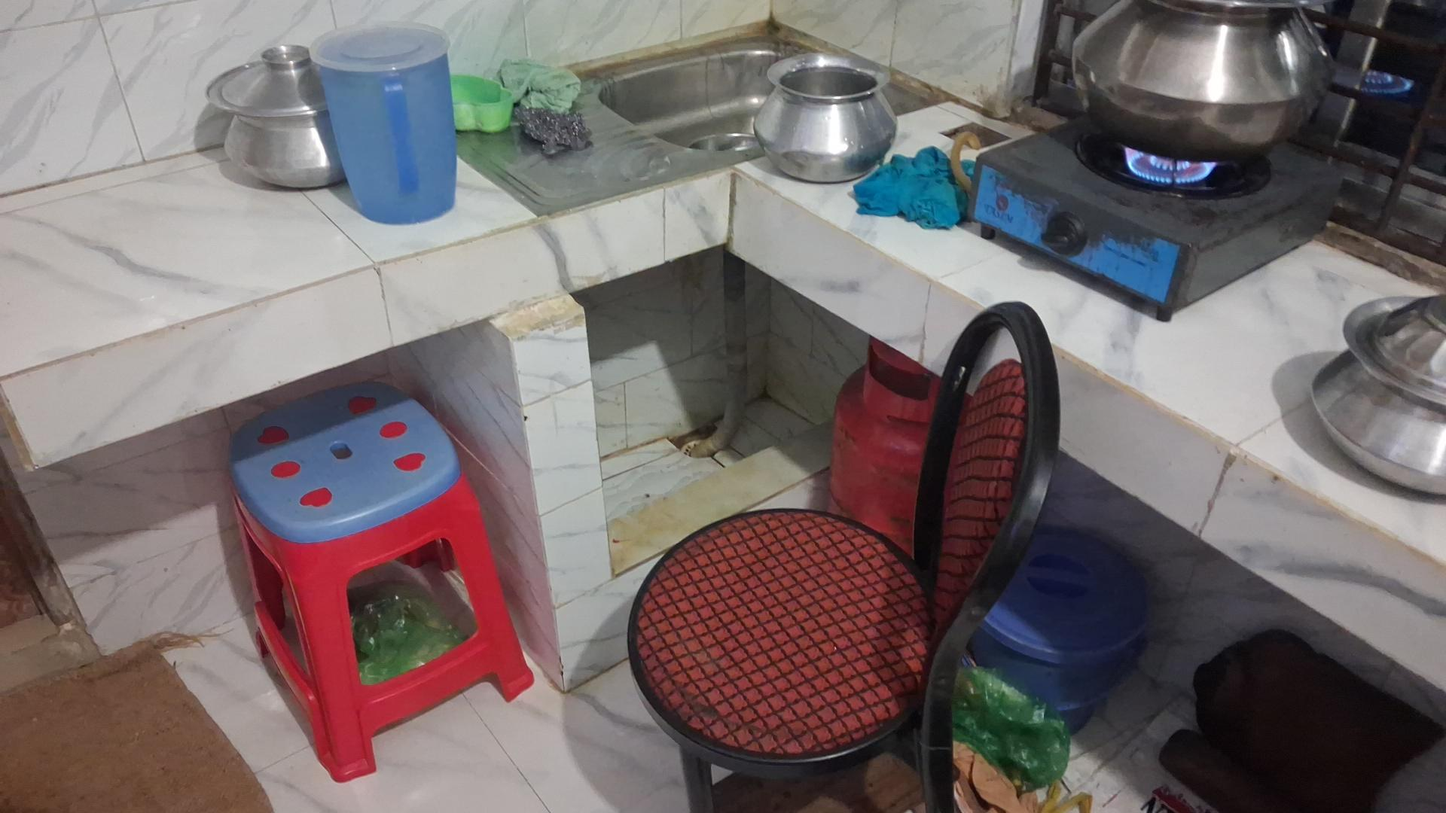Bucket: (979, 527, 1144, 721)
Chair: (627, 301, 1062, 805)
Jar: (450, 74, 507, 135)
Jug: (305, 17, 458, 221)
Pot: (1063, 0, 1330, 174), (1318, 288, 1446, 512), (197, 52, 342, 190), (753, 61, 897, 184)
Stool: (221, 384, 534, 778)
